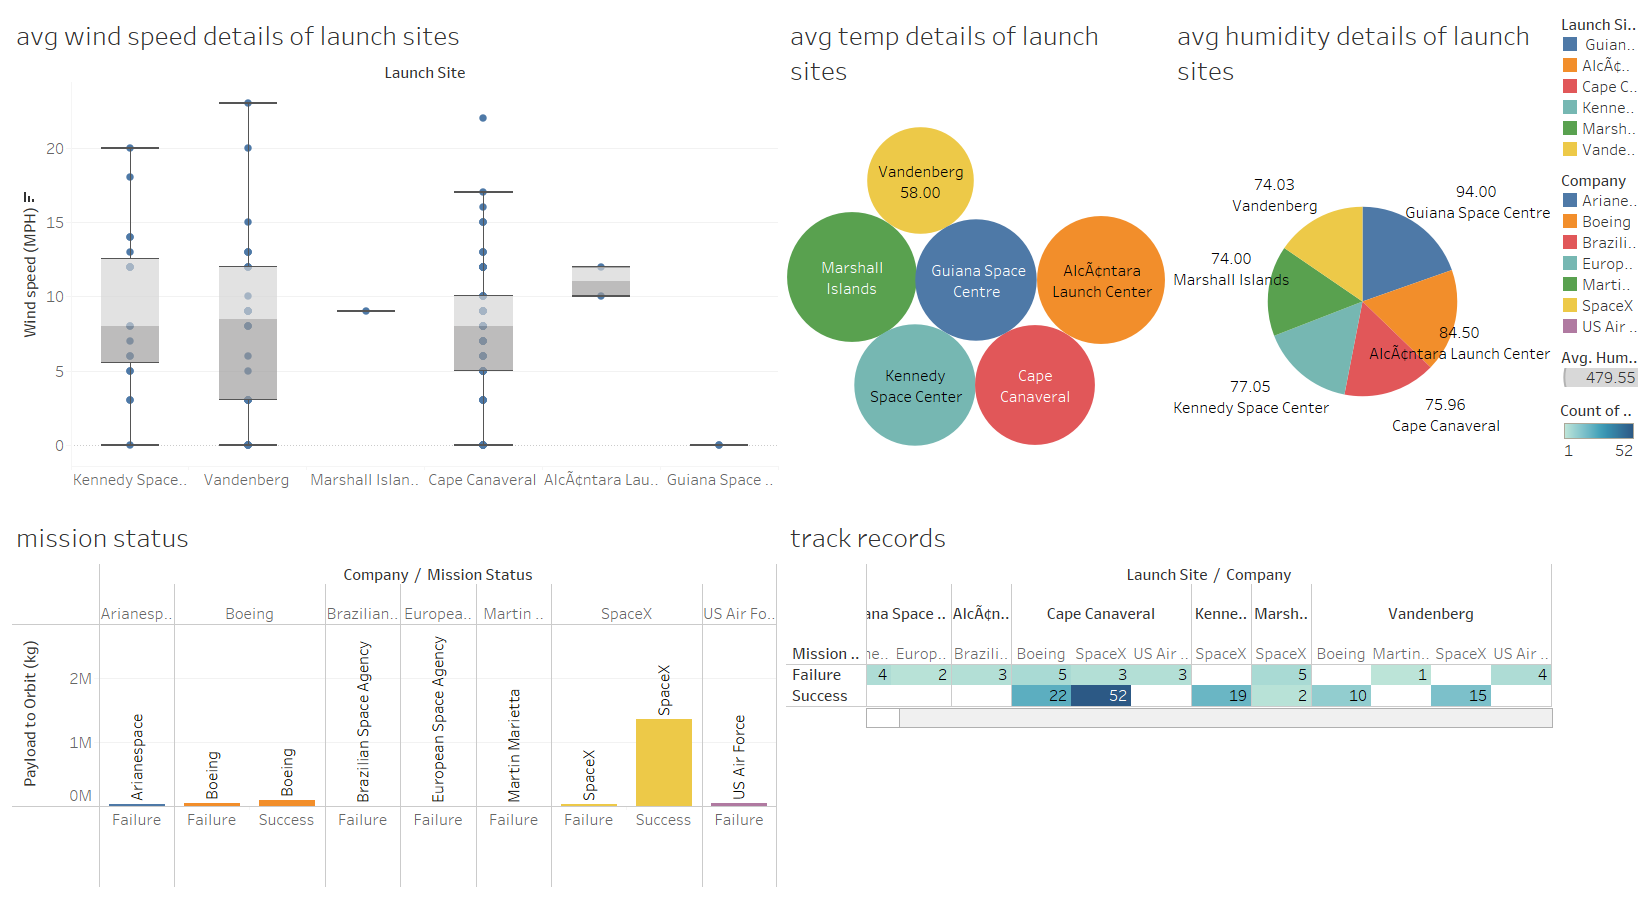

What the dashboard file says about the page in this screenshot:
{"tool":"tableau","page":{"name":"Dashboard 1","canvas":[1650,900],"ordinal":0},"visuals":[{"type":"worksheet","title":"avg wind speed details of launch sites ","mark":"Circle","rows":["Wind speed (MPH)"],"cols":["Launch Site"],"box":[8,8,773.9,502]},{"type":"worksheet","title":"avg temp details of launch sites","mark":"Circle","box":[782,8,387,502]},{"type":"worksheet","title":"avg humidity details of launch sites","mark":"Pie","box":[1169,8,387,502]},{"type":"legend","title":"avg temp details of launch sites","param":"[federated.19iqlrr1szpmd813fe32z08lkuqw].[none:Launch Site:nk]","box":[1556,8,86,156]},{"type":"legend","title":"mission status","param":"[federated.19iqlrr1szpmd813fe32z08lkuqw].[none:Company:nk]","box":[1556,164,86,177]},{"type":"legend","title":"avg humidity details of launch sites","param":"[federated.19iqlrr1szpmd813fe32z08lkuqw].[avg:Humidity (%):qk]","box":[1556,341,86,51]},{"type":"legend","title":"track records","param":"[federated.19iqlrr1szpmd813fe32z08lkuqw].[__tableau_internal_object_id__].[cnt:S","box":[1556,392,86,73]},{"type":"worksheet","title":"mission status","mark":"Automatic","rows":["Payload to Orbit (kg)"],"cols":["Company","Mission Status"],"box":[8,510,774,382]},{"type":"worksheet","title":"track records","mark":"Square","rows":["Mission Status"],"cols":["Launch Site","Company"],"box":[782,510,774,382]}]}

Visuals, with their boxes in screenshot pixels (x1, y1, x2, y2), scaled from the page's 1650x900 canvas onto the 1650x900 screenshot:
"avg wind speed details of launch sites " worksheet (Circle marks): l=8, t=8, r=782, b=510
"avg temp details of launch sites" worksheet (Circle marks): l=782, t=8, r=1169, b=510
"avg humidity details of launch sites" worksheet (Pie marks): l=1169, t=8, r=1556, b=510
"avg temp details of launch sites" legend: l=1556, t=8, r=1642, b=164
"mission status" legend: l=1556, t=164, r=1642, b=341
"avg humidity details of launch sites" legend: l=1556, t=341, r=1642, b=392
"track records" legend: l=1556, t=392, r=1642, b=465
"mission status" worksheet: l=8, t=510, r=782, b=892
"track records" worksheet (Square marks): l=782, t=510, r=1556, b=892
